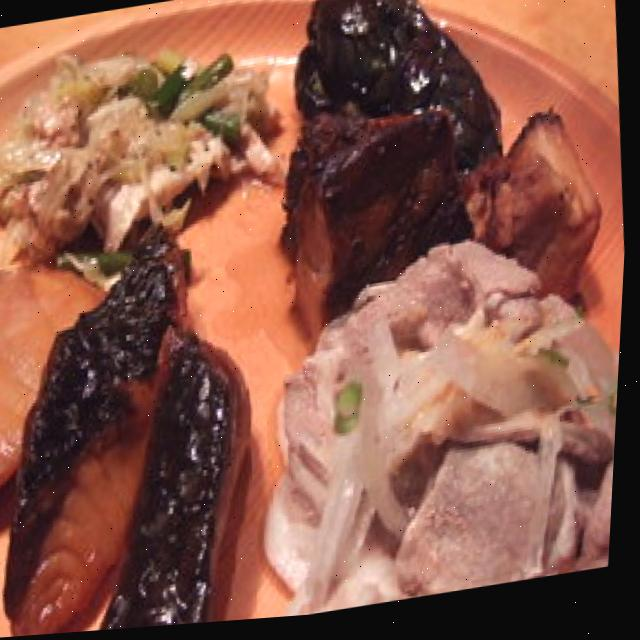熟制海鲜: (0, 184, 278, 640)
